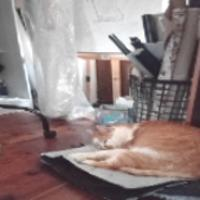asleep: (66, 116, 200, 181)
